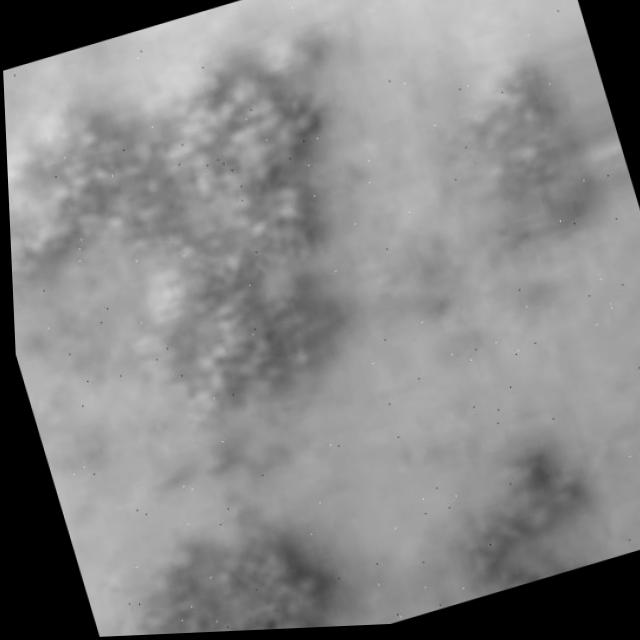Shingles: (3, 48, 396, 469), (464, 65, 599, 257), (121, 523, 326, 636), (451, 448, 595, 596)
